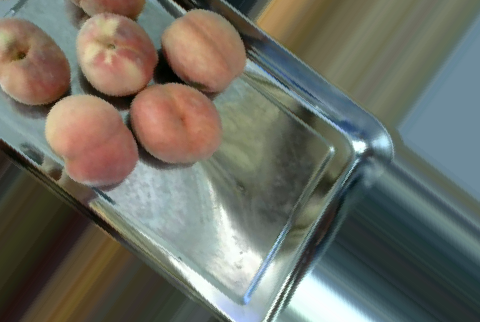Peach: (42, 94, 138, 186), (132, 79, 221, 166), (74, 7, 156, 100), (159, 7, 246, 94)
